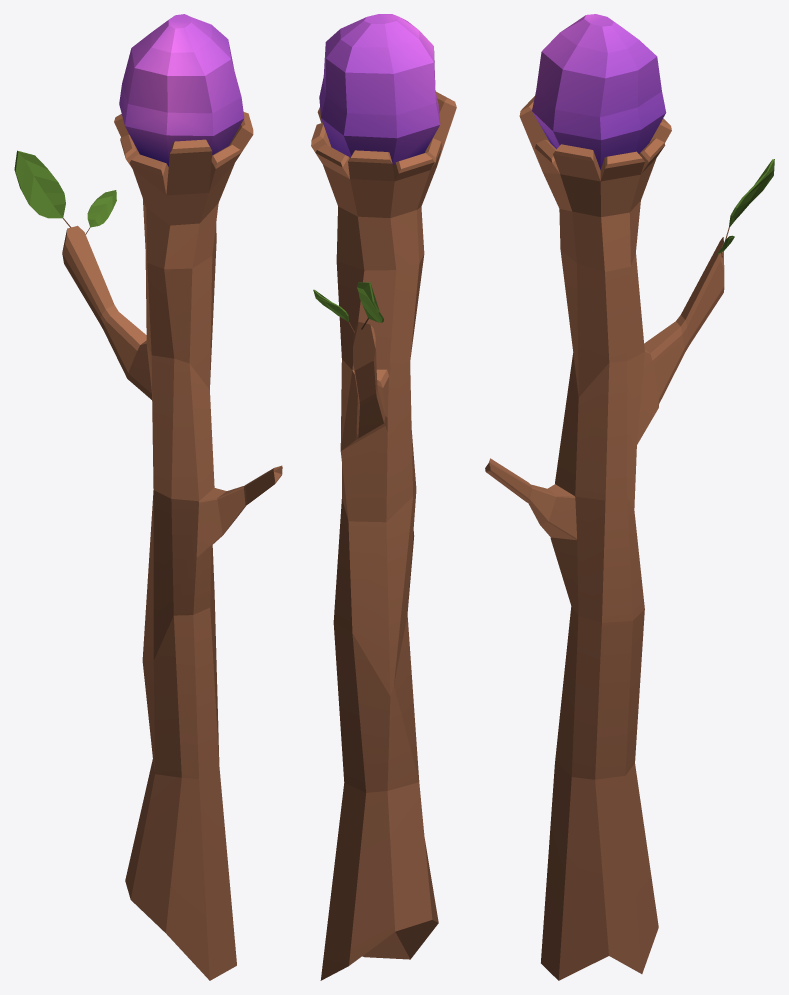
The model's file is Stab.fbx.
3 renders of one model, left to right at view 1: azimuth 30°, elevation 25°; view 2: azimuth 150°, elevation 25°; view 3: azimuth 270°, elevation 25°, orthographic. The views are drawn at different scales.
Parts seen in each view (by area): view 1: Stab_Tier_1; view 2: Stab_Tier_1; view 3: Stab_Tier_1.
Boxes of the visible parts, x1,y1,x2,y2 form: Stab_Tier_1: (14, 14, 282, 980); Stab_Tier_1: (311, 14, 456, 980); Stab_Tier_1: (485, 14, 774, 980).
Size of the model in its own units: 11.35 by 70.72 by 19.71.
